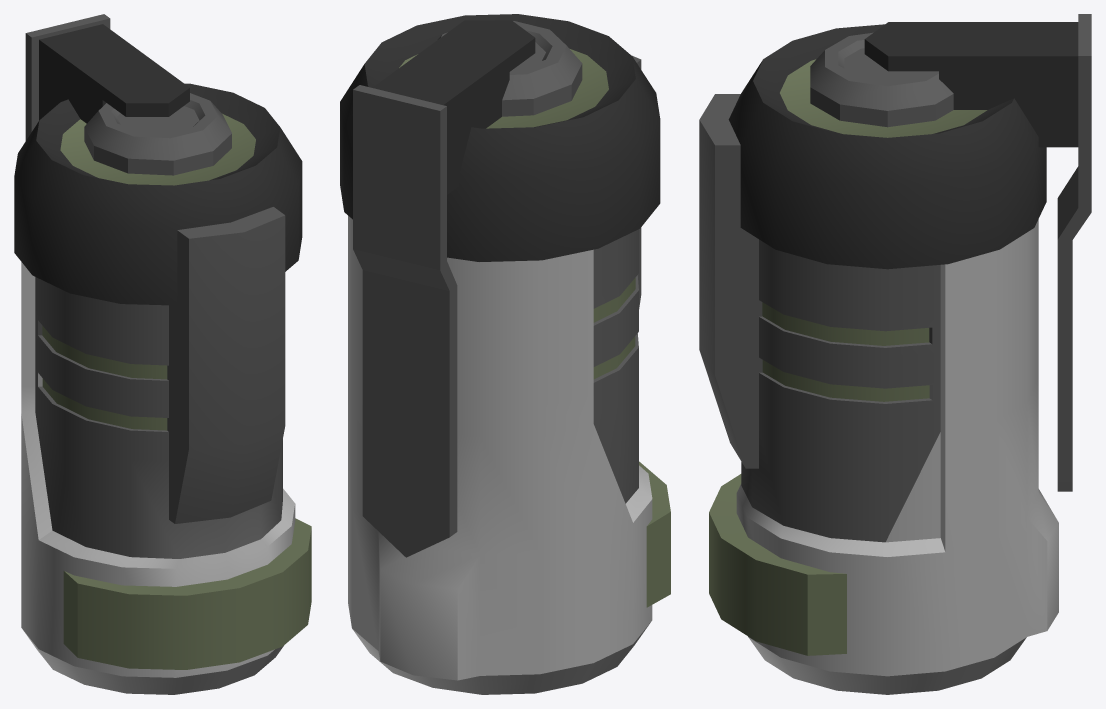
File: frag.glb
The picture shows the model from 3 angles, left to right: view 1: azimuth 30°, elevation 25°; view 2: azimuth 150°, elevation 25°; view 3: azimuth 270°, elevation 25°; orthographic projection. The views are drawn at different scales.
Parts seen in each view (by area): view 1: Cylinder.013; view 2: Cylinder.013; view 3: Cylinder.013.
Part boxes in pixels (x1,y1,x2,y2): Cylinder.013: [14, 14, 311, 694]; Cylinder.013: [340, 14, 670, 694]; Cylinder.013: [699, 14, 1091, 694].
Size of the model in its own units: 0.1297 by 0.2719 by 0.16.
